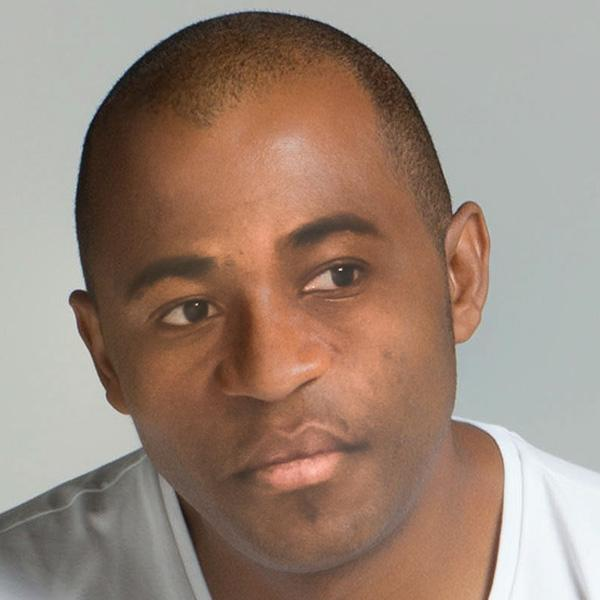Eyes: (289, 247, 378, 307), (145, 285, 235, 343)
